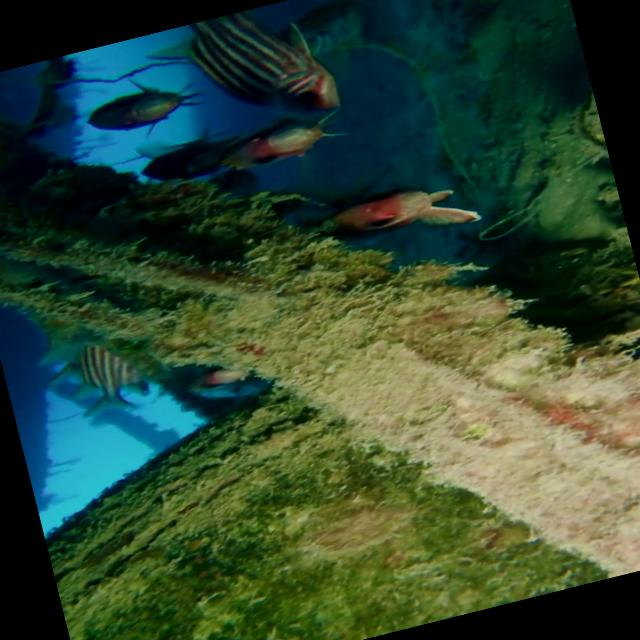Asker Baligi: (144, 0, 381, 155)
